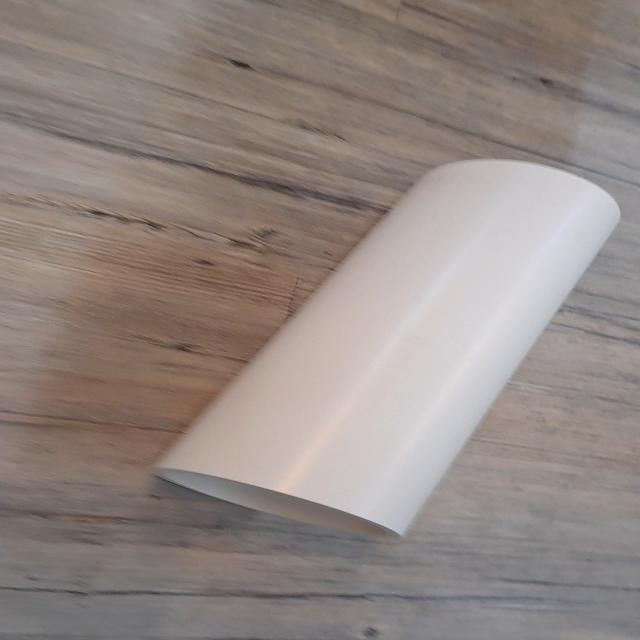CORAL: (116, 152, 632, 549)
